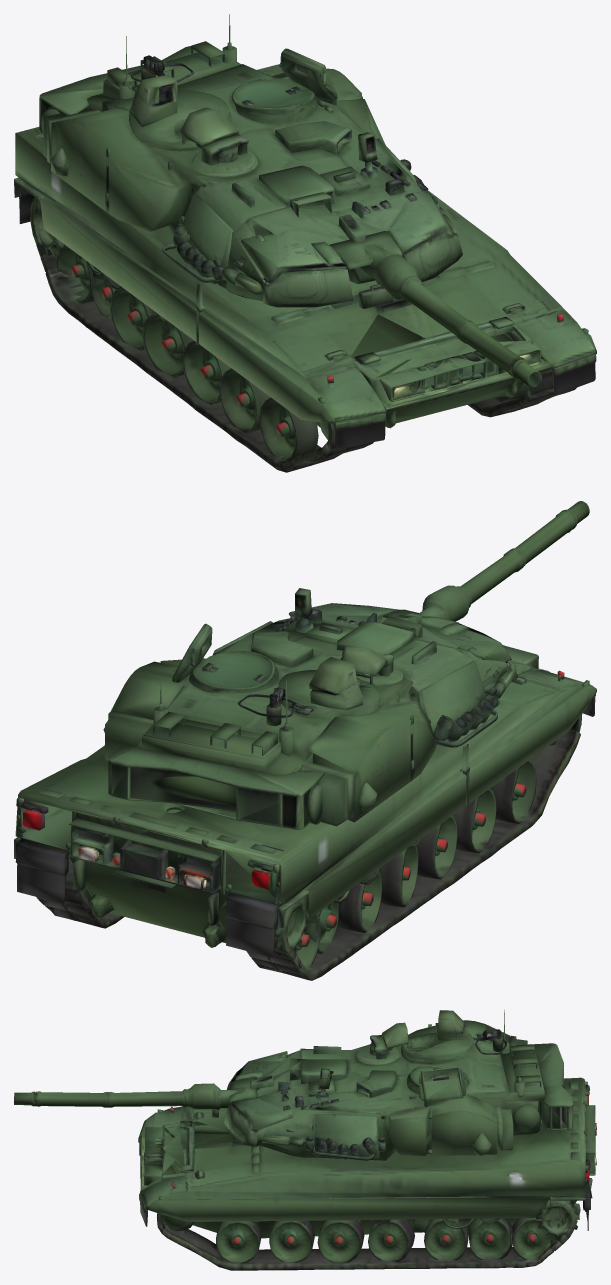
Rendered from tank-leopard-2a8.glb.
The picture shows the model from 3 angles, top to bottom: view 1: azimuth 30°, elevation 25°; view 2: azimuth 150°, elevation 25°; view 3: azimuth 270°, elevation 25°; orthographic projection. The views are drawn at different scales.
Visible parts, largest first — view 1: Hull, Turret, Gun; view 2: Hull, Turret, Gun; view 3: Hull, Turret, Gun.
Boxes of the visible parts, x1,y1,x2,y2 form: Hull: (14, 64, 596, 472); Turret: (36, 14, 462, 308); Gun: (360, 250, 541, 387); Hull: (14, 645, 596, 980); Turret: (103, 588, 517, 851); Gun: (419, 501, 589, 621); Hull: (138, 1077, 596, 1270); Turret: (212, 1009, 573, 1160); Gun: (14, 1083, 257, 1109).
Bounding box in the file's own units: 0.3882 × 0.3491 × 0.947.
1 material, 1 textured.
